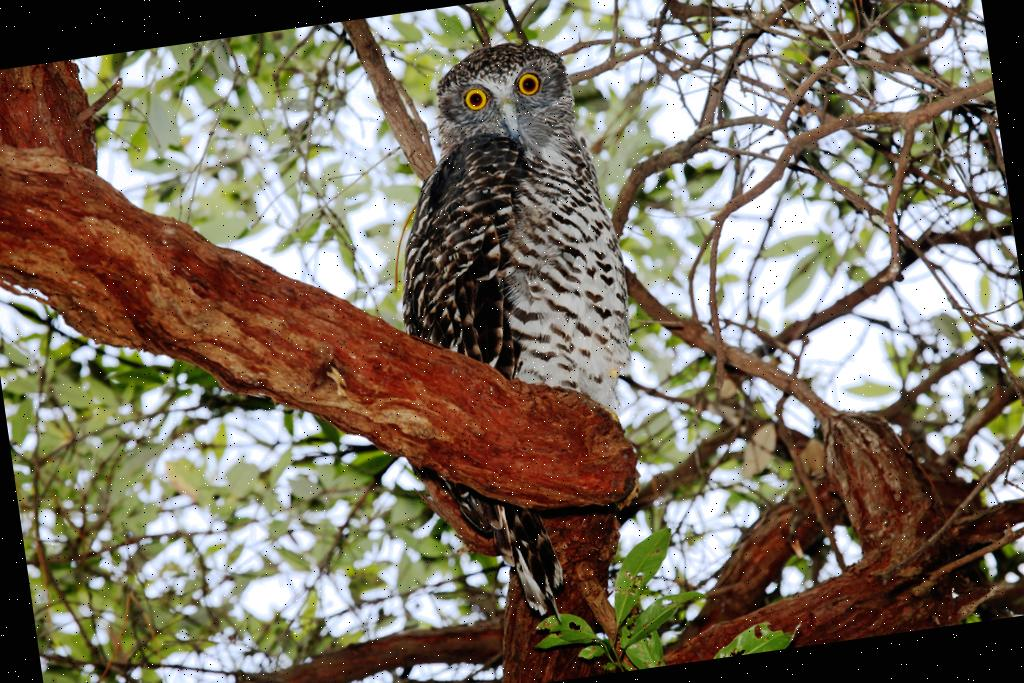Owl: (347, 21, 694, 654)
